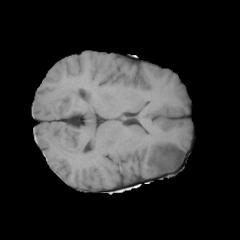glioma: (146, 141, 185, 174)
